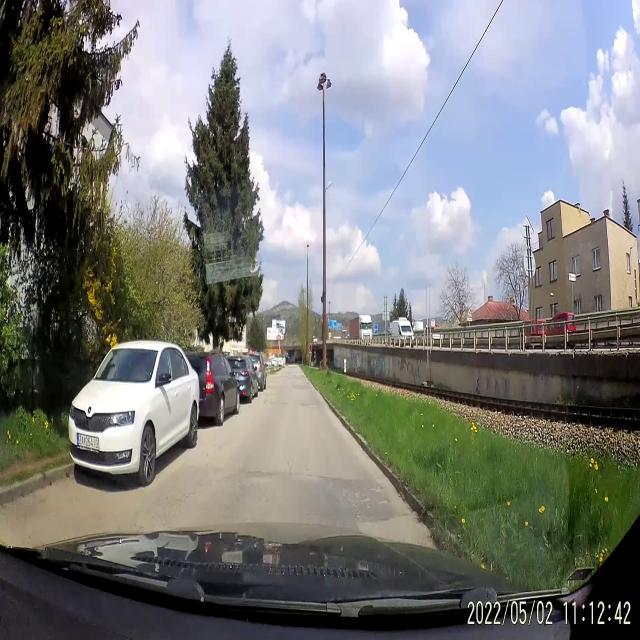Pothole: (344, 480, 386, 516)
